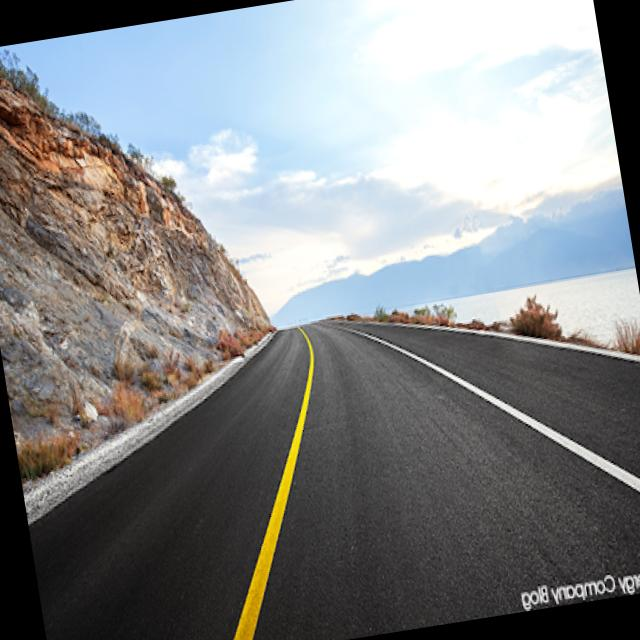asphalt: (29, 321, 640, 640)
cement: (23, 334, 274, 524)
grass: (15, 354, 222, 485), (486, 296, 640, 353), (330, 305, 462, 327), (217, 332, 262, 360)
rocks: (0, 73, 269, 433)
